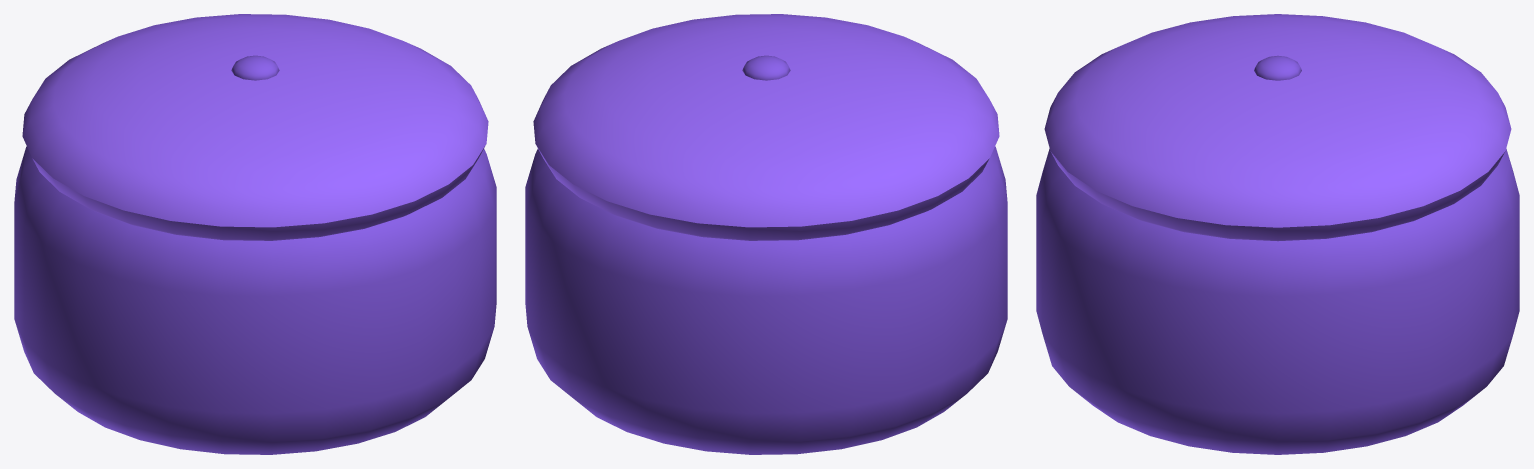
Rendered from pouf.glb.
3 views of the same model, side by side, from view 1: azimuth 30°, elevation 25°; view 2: azimuth 150°, elevation 25°; view 3: azimuth 270°, elevation 25° (orthographic).
Parts seen in each view (by area): view 1: Pouf; view 2: Pouf; view 3: Pouf.
Part boxes in pixels (x1,y1,x2,y2): Pouf: (14, 14, 496, 454); Pouf: (525, 14, 1007, 454); Pouf: (1036, 14, 1519, 454).
Bounding box in the file's own units: 0.6 × 0.435 × 0.6.
